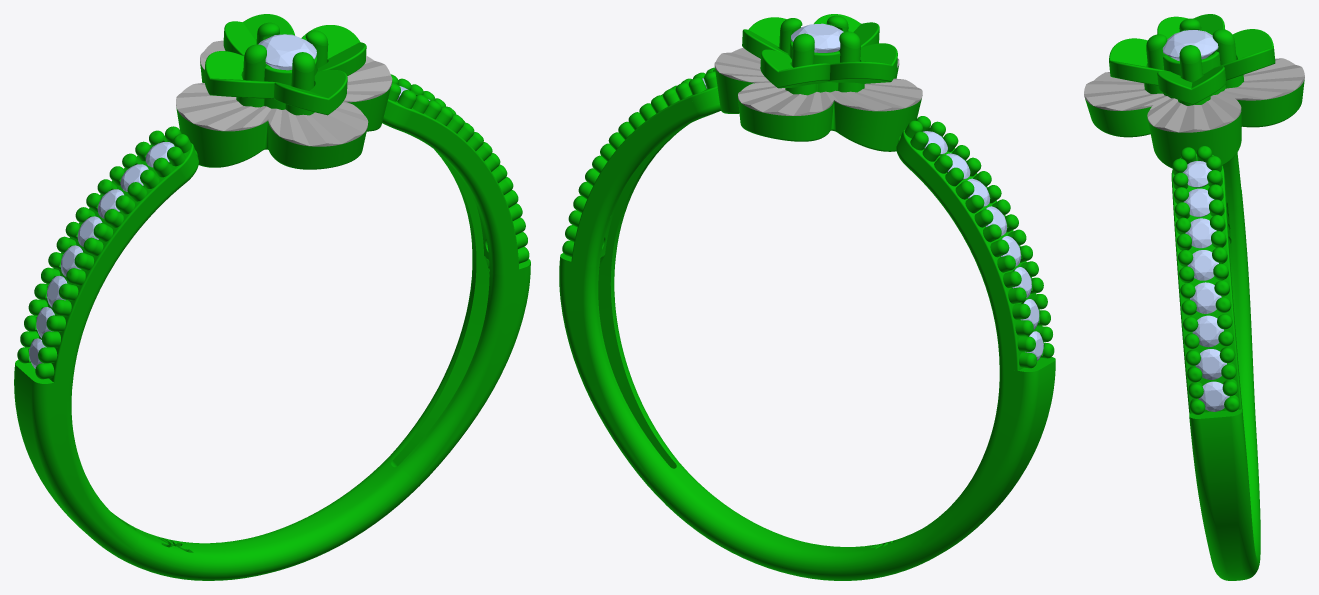
3 views of the same model, side by side, from view 1: azimuth 30°, elevation 25°; view 2: azimuth 150°, elevation 25°; view 3: azimuth 270°, elevation 25° (orthographic). The views are drawn at different scales.
Parts seen in each view (by area): view 1: q1.3dm; view 2: q1.3dm; view 3: q1.3dm.
Part boxes in pixels (x1=…): q1.3dm: x1=14, y1=14, x2=530, y2=580; q1.3dm: x1=559, y1=14, x2=1055, y2=580; q1.3dm: x1=1084, y1=14, x2=1304, y2=580.
Bounding box in the file's own units: 2.64 × 2.81 × 1.07.
